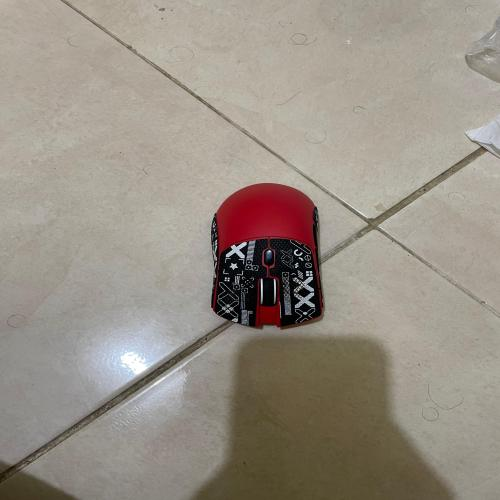Mouse: (189, 176, 358, 351)
